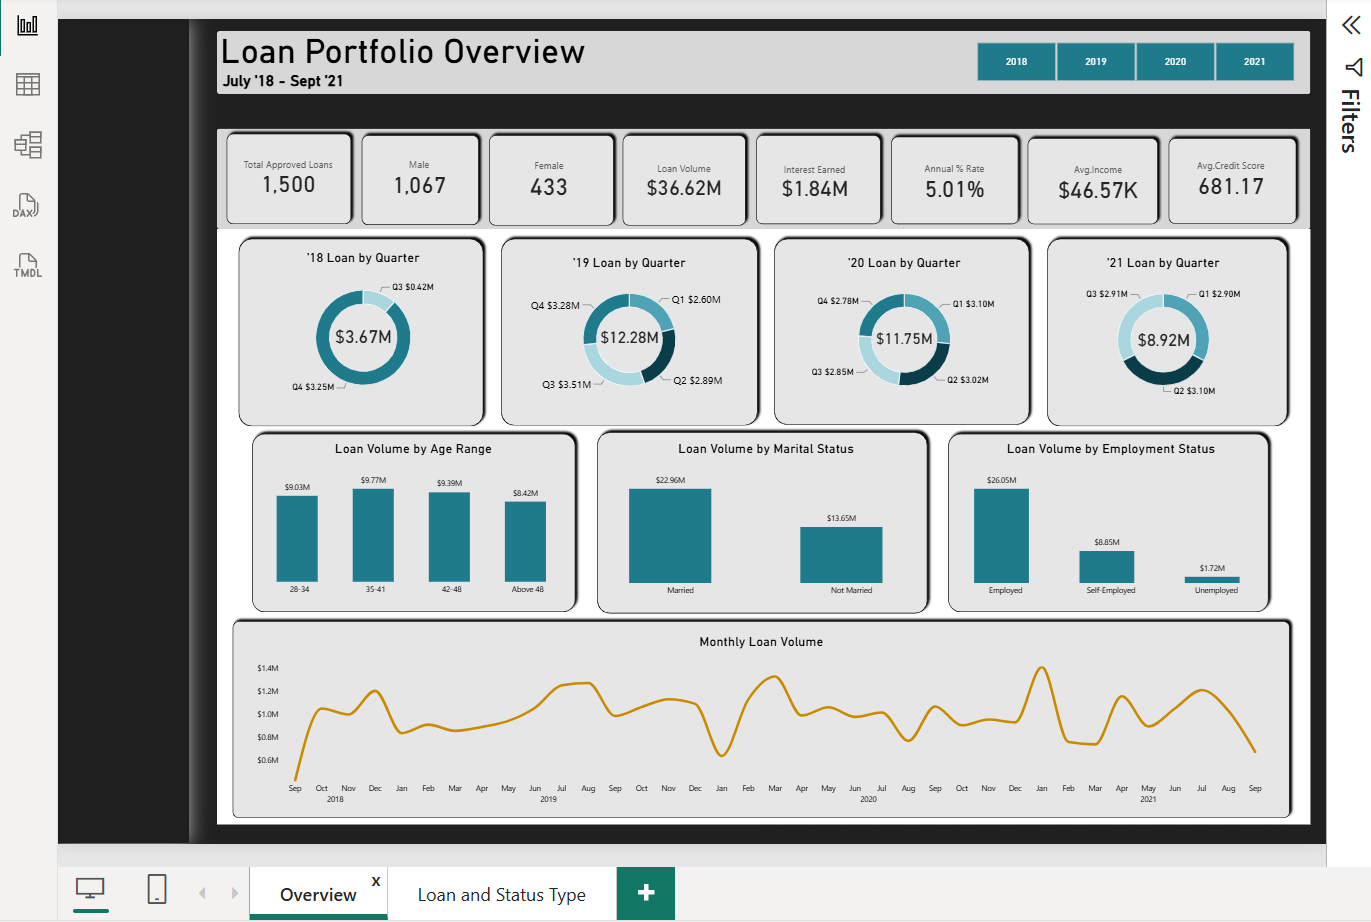

What the dashboard file says about the page in this screenshot:
{"tool":"powerbi","page":{"name":"Overview","canvas":[2000,1300],"ordinal":0},"visuals":[{"type":"shape","box":[250.8,331.2,1724.8,939.3],"z":0},{"type":"shape","box":[250.8,18.9,1724.8,99.4],"z":1000},{"type":"shape","box":[250.8,172.7,1724.8,158.5],"z":2000},{"type":"shape","box":[266.4,942.6,1683.6,326.9],"z":3000},{"type":"shape","box":[691.8,338.1,420.9,311.2],"z":4000},{"type":"shape","box":[276.8,338.3,402.2,312.3],"z":5000},{"type":"shape","box":[1121.5,338.3,418.8,309.9],"z":6000},{"type":"shape","box":[1552.1,338.3,395.1,312.3],"z":7000},{"type":"shape","box":[841.8,642.5,537.3,302.2],"z":8000},{"type":"shape","box":[1394.8,647,521.7,297.8],"z":9000},{"type":"shape","box":[257.5,172.4,212.7,159],"z":10000},{"type":"shape","box":[470.2,174.6,201.1,158],"z":11000},{"type":"shape","box":[671.7,174.6,212.7,159],"z":12000},{"type":"shape","box":[882.1,174.6,210.5,159],"z":13000},{"type":"shape","box":[1092.6,174.6,212.7,156.7],"z":14000},{"type":"shape","box":[1305.2,176.9,217.2,154.5],"z":15000},{"type":"shape","box":[1522.4,179.1,221.6,152.2],"z":16000},{"type":"shape","box":[1743.7,179.8,217.7,151.4],"z":17000},{"type":"shape","box":[297.8,647,526.1,297.8],"z":18000},{"type":"cardVisual","fields":{"Data":["Measure Table.Total Approved Loan Dispaly"]},"box":[273.1,192.5,182.2,118.3],"z":19000},{"type":"cardVisual","fields":{"Data":["Measure Table.Males"]},"box":[499.3,188.1,142,130.1],"z":20000},{"type":"cardVisual","fields":{"Data":["Measure Table.Females"]},"box":[679,191.6,191.6,125.4],"z":21000},{"type":"cardVisual","fields":{"Data":["Measure Table.Loan Volume Display"]},"box":[892,196.4,191.6,118.3],"z":22000},{"type":"cardVisual","fields":{"Data":["Measure Table.Interest Earned Display"]},"box":[1093.1,222.4,201.1,71],"z":23000},{"type":"cardVisual","fields":{"Data":["Measure Table.APR"]},"box":[1323.2,197,183.6,123.1],"z":24000},{"type":"cardVisual","fields":{"Data":["Measure Table.Avg.Income"]},"box":[1537.5,197.5,205,125],"z":25000},{"type":"cardVisual","fields":{"Data":["Measure Table.Avg.Credit Score"]},"box":[1746.1,194,208.2,118.3],"z":26000},{"type":"donutChart","title":"''18 Loan by Quarter","fields":{"Category":["Date Table.Quater Name"],"Y":["Measure Table.Total Loan 2018"]},"box":[291,350.2,380.9,267.4],"z":27000},{"type":"donutChart","title":"''19 Loan by Quarter","fields":{"Category":["Date Table.Quater Name"],"Y":["Measure Table.Total Loan 2019"]},"box":[694,358,416,260],"z":28000},{"type":"cardVisual","fields":{"Data":["Measure Table.Total Loan 2018 Display"]},"box":[388,447.2,188,108],"z":29000},{"type":"cardVisual","fields":{"Data":["Measure Table.Total Loan 2019 Display"]},"box":[813.9,449.5,175.1,106.5],"z":30000},{"type":"donutChart","title":"''20 Loan by Quarter","fields":{"Category":["Date Table.Quater Name"],"Y":["Measure Table.Total Loan 2020"]},"box":[1137.3,358.2,394,259.7],"z":31000},{"type":"donutChart","title":"''21 Loan by Quarter","fields":{"Category":["Date Table.Quater Name"],"Y":["Measure Table.Total Loan 2021"]},"box":[1553.8,358.2,378.4,259.7],"z":32000},{"type":"cardVisual","fields":{"Data":["Measure Table.Total Loan 2020 Display"]},"box":[1247,452.2,176,105],"z":33000},{"type":"cardVisual","fields":{"Data":["Measure Table.Total Loan 2021 Display"]},"box":[1656.7,454.5,176,105],"z":34000},{"type":"columnChart","title":"Loan Volume by  Age Range","fields":{"Category":["loan dataset.Age Range"],"Y":["Measure Table.Loan Volume Display"]},"box":[330,650,464,278],"z":35000},{"type":"columnChart","title":"Loan Volume by  Marital Status","fields":{"Category":["loan dataset.Marital Status"],"Y":["Measure Table.Loan Volume"]},"box":[884,650,464,280],"z":36000},{"type":"columnChart","title":"Loan Volume by  Employment Status","fields":{"Category":["loan dataset.Employment Status"],"Y":["Measure Table.Loan Volume"]},"box":[1428,650,464,280],"z":37000},{"type":"lineChart","title":"Monthly Loan Volume","fields":{"Category":["Date Table.Year","Date Table.Month Name"],"Y":["Measure Table.Loan Volume"]},"box":[298.1,955.8,1623,307.6],"z":38000},{"type":"slicer","fields":{"Values":["Date Table.Year"]},"box":[1429,35.5,539.4,63.9],"z":39000},{"type":"shape","title":"Loan Portfolio Overview","box":[246.1,18.9,596.2,68.6],"z":40000},{"type":"shape","title":"July ''18 - Sept ''21","box":[246.1,82.8,219.4,60.4],"z":41000},{"type":"shape","box":[0,0,206.9,1300],"z":42000}]}

Visuals, with their boxes on the page's 2000x1300 design canvas (x1, y1, x2, y2). These are canvas units, not pixel positions in the 1371x922 screenshot, which may show the page scaled, cropped or inside an application window:
shape: detection(251, 331, 1976, 1270)
shape: detection(251, 19, 1976, 118)
shape: detection(251, 173, 1976, 331)
shape: detection(266, 943, 1950, 1270)
shape: detection(692, 338, 1113, 649)
shape: detection(277, 338, 679, 651)
shape: detection(1122, 338, 1540, 648)
shape: detection(1552, 338, 1947, 651)
shape: detection(842, 642, 1379, 945)
shape: detection(1395, 647, 1916, 945)
shape: detection(258, 172, 470, 331)
shape: detection(470, 175, 671, 333)
shape: detection(672, 175, 884, 334)
shape: detection(882, 175, 1093, 334)
shape: detection(1093, 175, 1305, 331)
shape: detection(1305, 177, 1522, 331)
shape: detection(1522, 179, 1744, 331)
shape: detection(1744, 180, 1961, 331)
shape: detection(298, 647, 824, 945)
cardVisual - Measure Table.Total Approved Loan Dispaly: detection(273, 192, 455, 311)
cardVisual - Measure Table.Males: detection(499, 188, 641, 318)
cardVisual - Measure Table.Females: detection(679, 192, 871, 317)
cardVisual - Measure Table.Loan Volume Display: detection(892, 196, 1084, 315)
cardVisual - Measure Table.Interest Earned Display: detection(1093, 222, 1294, 293)
cardVisual - Measure Table.APR: detection(1323, 197, 1507, 320)
cardVisual - Measure Table.Avg.Income: detection(1538, 198, 1742, 322)
cardVisual - Measure Table.Avg.Credit Score: detection(1746, 194, 1954, 312)
"''18 Loan by Quarter" donutChart: detection(291, 350, 672, 618)
"''19 Loan by Quarter" donutChart: detection(694, 358, 1110, 618)
cardVisual - Measure Table.Total Loan 2018 Display: detection(388, 447, 576, 555)
cardVisual - Measure Table.Total Loan 2019 Display: detection(814, 450, 989, 556)
"''20 Loan by Quarter" donutChart: detection(1137, 358, 1531, 618)
"''21 Loan by Quarter" donutChart: detection(1554, 358, 1932, 618)
cardVisual - Measure Table.Total Loan 2020 Display: detection(1247, 452, 1423, 557)
cardVisual - Measure Table.Total Loan 2021 Display: detection(1657, 454, 1833, 560)
"Loan Volume by  Age Range" columnChart: detection(330, 650, 794, 928)
"Loan Volume by  Marital Status" columnChart: detection(884, 650, 1348, 930)
"Loan Volume by  Employment Status" columnChart: detection(1428, 650, 1892, 930)
"Monthly Loan Volume" lineChart: detection(298, 956, 1921, 1263)
slicer - Date Table.Year: detection(1429, 36, 1968, 99)
"Loan Portfolio Overview" shape: detection(246, 19, 842, 88)
"July ''18 - Sept ''21" shape: detection(246, 83, 466, 143)
shape: detection(0, 0, 207, 1300)
